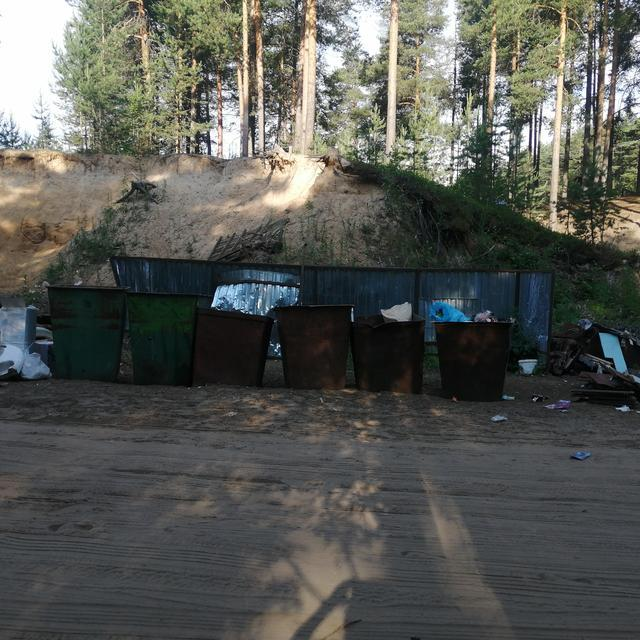Trash_Can_Empty: (125, 289, 215, 388), (45, 281, 130, 384), (191, 304, 274, 389), (276, 303, 355, 391)
Trash_Can_Full: (429, 299, 516, 403), (349, 302, 426, 395)
